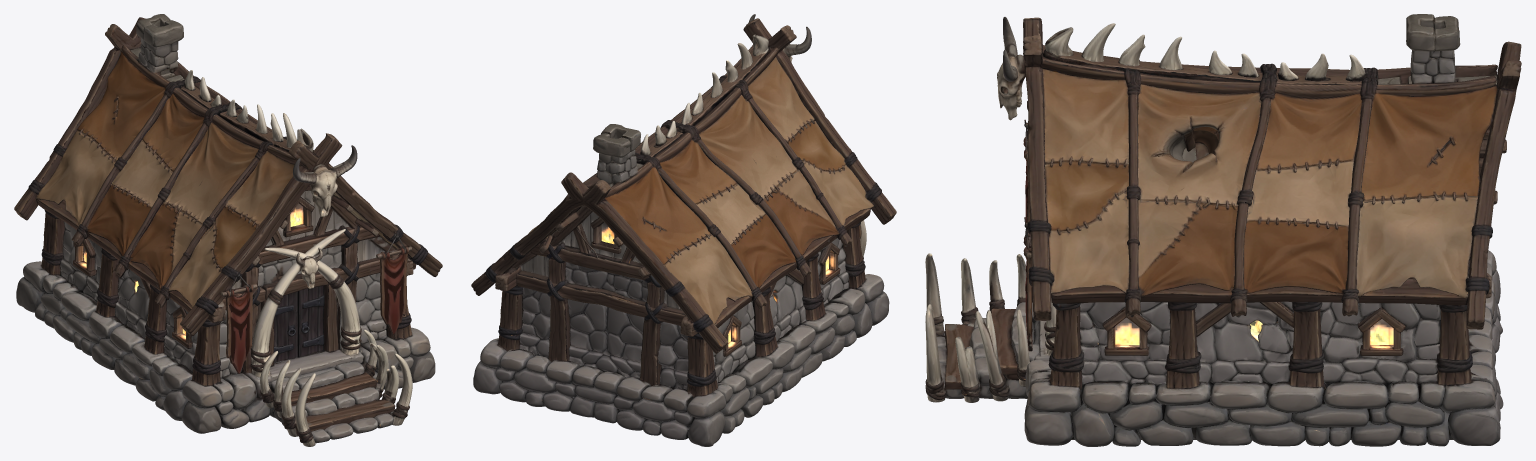
File: TrollHall_300k.glb
The picture shows the model from 3 angles, left to right: view 1: azimuth 30°, elevation 25°; view 2: azimuth 150°, elevation 25°; view 3: azimuth 270°, elevation 25°; orthographic projection. The views are drawn at different scales.
Visible parts, largest first — view 1: Mesh_0; view 2: Mesh_0; view 3: Mesh_0.
Boxes of the visible parts, x1,y1,x2,y2 form: Mesh_0: [14, 14, 442, 446]; Mesh_0: [471, 14, 896, 446]; Mesh_0: [925, 14, 1521, 446].
Bounding box in the file's own units: 1.22 × 1.23 × 1.9.
1 material, 1 textured.
